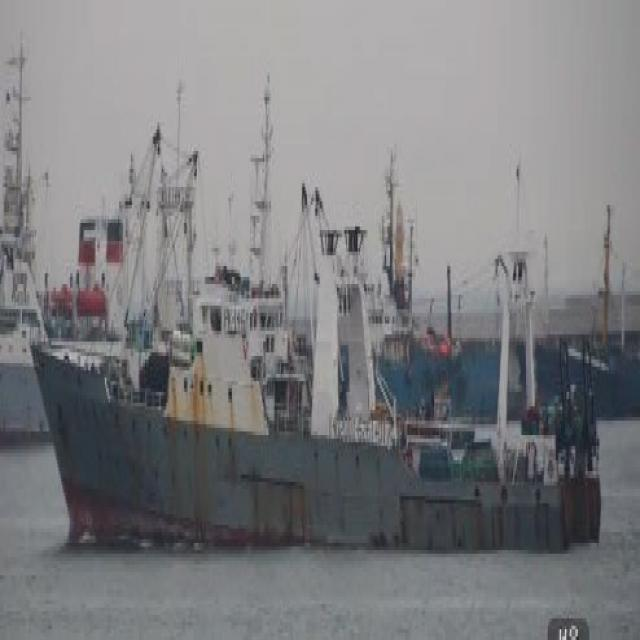Ship: (19, 70, 611, 613)
